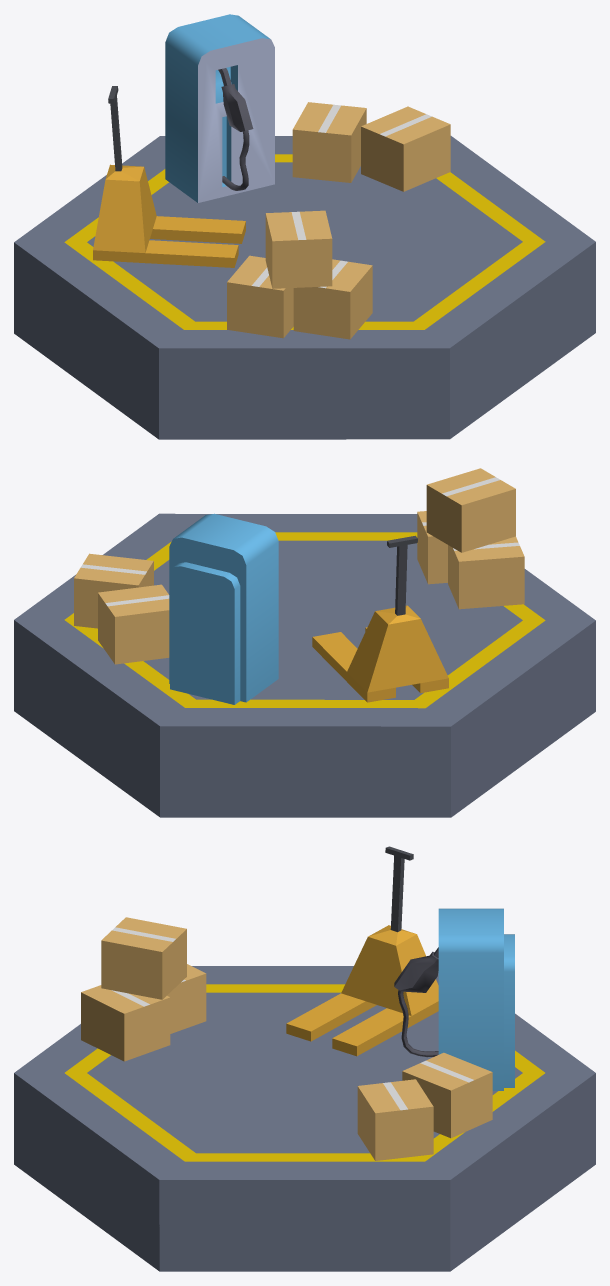
The model's file is RockHex_03.fbx.
The picture shows the model from 3 angles, top to bottom: view 1: azimuth 30°, elevation 25°; view 2: azimuth 150°, elevation 25°; view 3: azimuth 270°, elevation 25°; orthographic projection.
Parts seen in each view (by area): view 1: RockHex_03; view 2: RockHex_03; view 3: RockHex_03.
Boxes of the visible parts, bbox=[...] form: RockHex_03: bbox=[14, 14, 595, 439]; RockHex_03: bbox=[14, 468, 595, 817]; RockHex_03: bbox=[14, 846, 595, 1271].
Bounding box in the file's own units: 1 × 0.5313 × 1.15.
